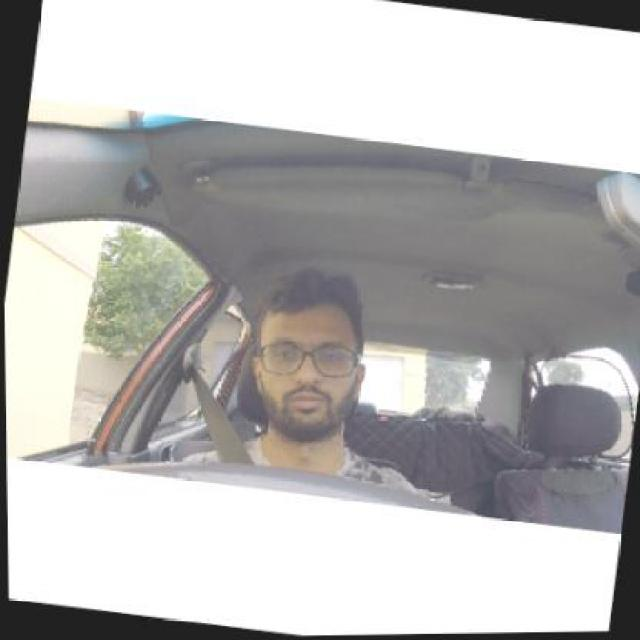person: (240, 257, 368, 460)
